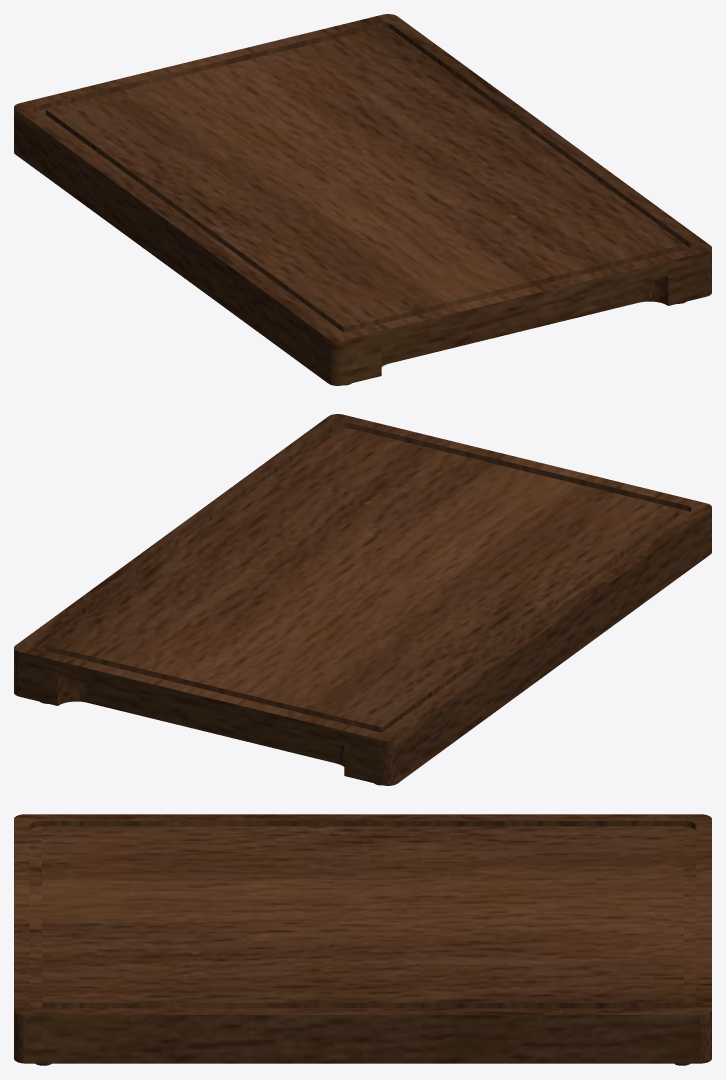
The model's file is tabla-de-picar-puy-talla-l.glb.
3 renders of one model, top to bottom at view 1: azimuth 30°, elevation 25°; view 2: azimuth 150°, elevation 25°; view 3: azimuth 270°, elevation 25°, orthographic. The views are drawn at different scales.
Size of the model in its own units: 0.4 by 0.055 by 0.5874.
4 materials, 3 textured.
